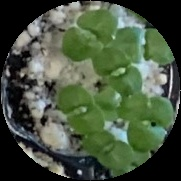Basil: (58, 9, 117, 64), (125, 97, 173, 155), (60, 84, 105, 135), (85, 128, 133, 172), (97, 67, 143, 109), (97, 29, 137, 75)
